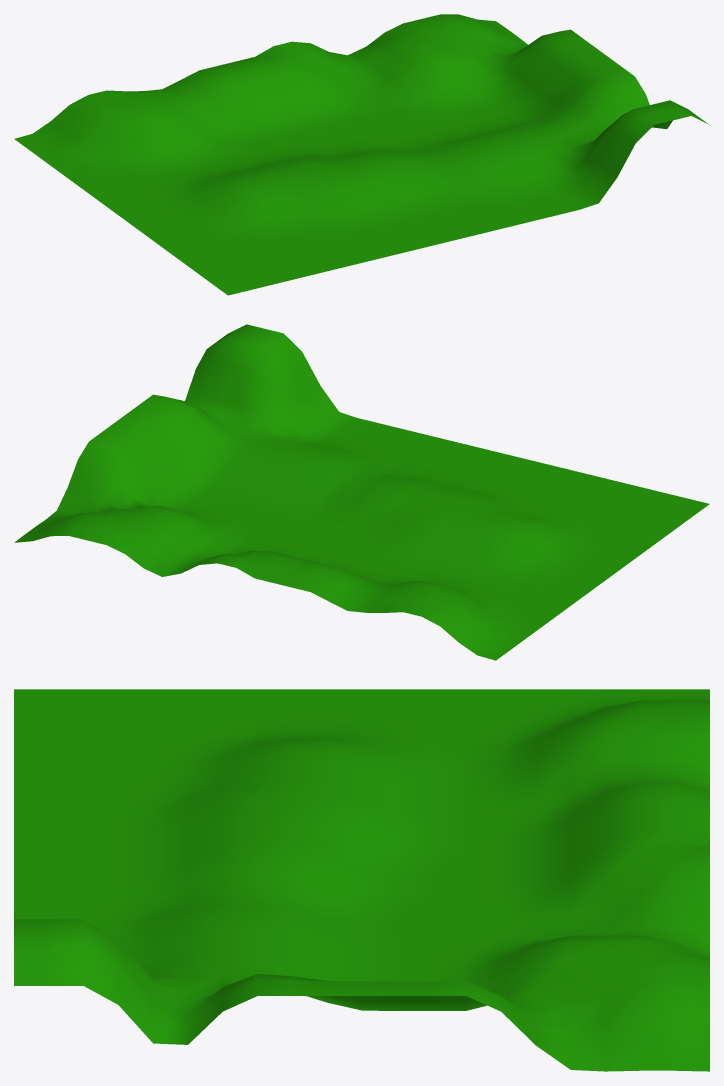
File: groundblender.dae
3 views of the same model, one above another, from view 1: azimuth 30°, elevation 25°; view 2: azimuth 150°, elevation 25°; view 3: azimuth 270°, elevation 25° (orthographic). The views are drawn at different scales.
Parts seen in each view (by area): view 1: SketchUp; view 2: SketchUp; view 3: SketchUp.
Boxes of the visible parts, x1,y1,x2,y2 form: SketchUp: (14,14,708,295); SketchUp: (14,324,709,660); SketchUp: (14,689,709,1071).
Bounding box in the file's own units: 78 × 60 × 10.3.
